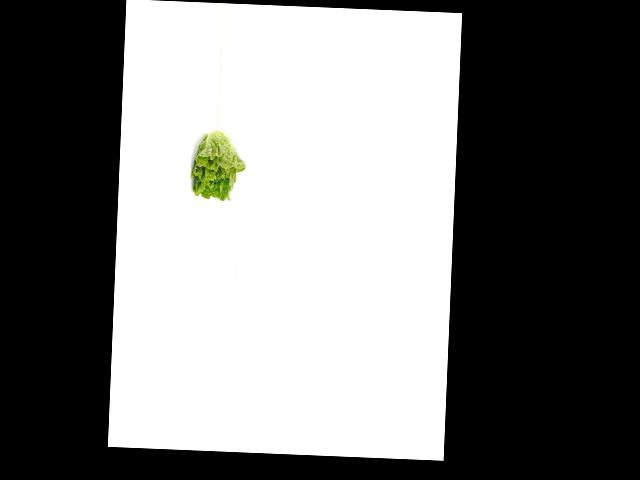lettuce: (186, 129, 245, 201)
